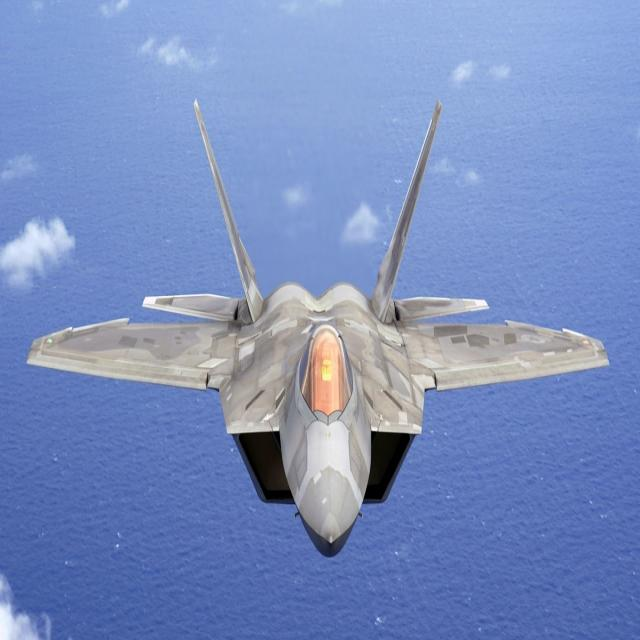F22: (27, 103, 611, 559)
